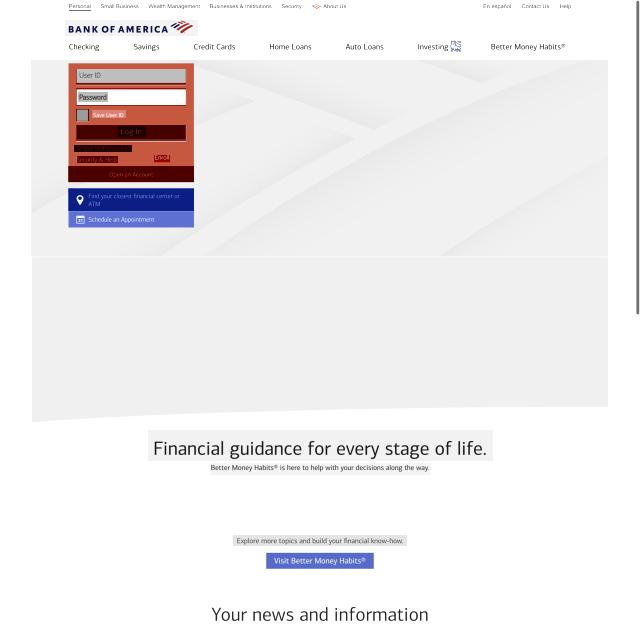CheckBox: (68, 188, 194, 211), (266, 551, 374, 571), (68, 211, 193, 228), (68, 166, 194, 182), (76, 125, 186, 142), (74, 145, 132, 152), (77, 156, 118, 163), (76, 109, 89, 121), (154, 156, 170, 163)
CheckedTextView: (76, 88, 186, 106), (76, 70, 186, 86)
Input field: (210, 463, 431, 475), (233, 535, 407, 546)
bag: (0, 0, 634, 60)
breadcrumbs: (207, 604, 429, 627)
card: (31, 60, 608, 256)
data feed: (118, 128, 146, 139), (78, 92, 108, 102), (92, 110, 126, 118), (78, 72, 102, 82)
date picker: (65, 20, 198, 36)
decoration: (66, 38, 569, 57), (31, 0, 606, 11)
image: (148, 430, 493, 461)
